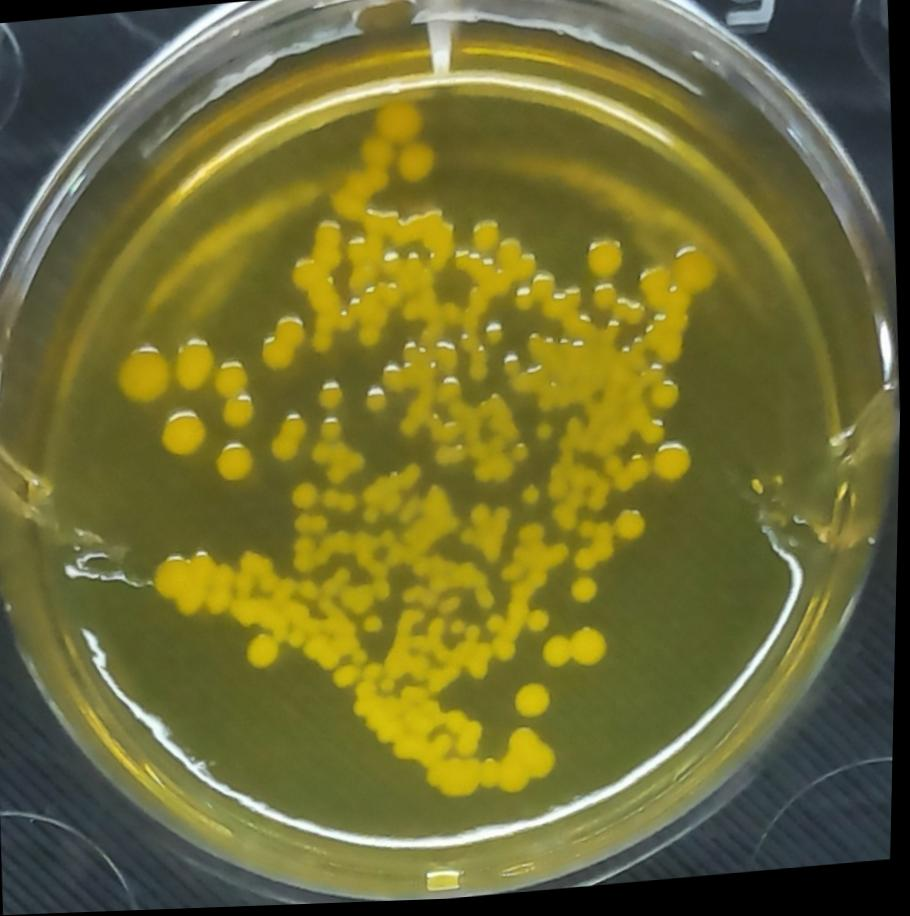vharveyi: (538, 621, 614, 689)
